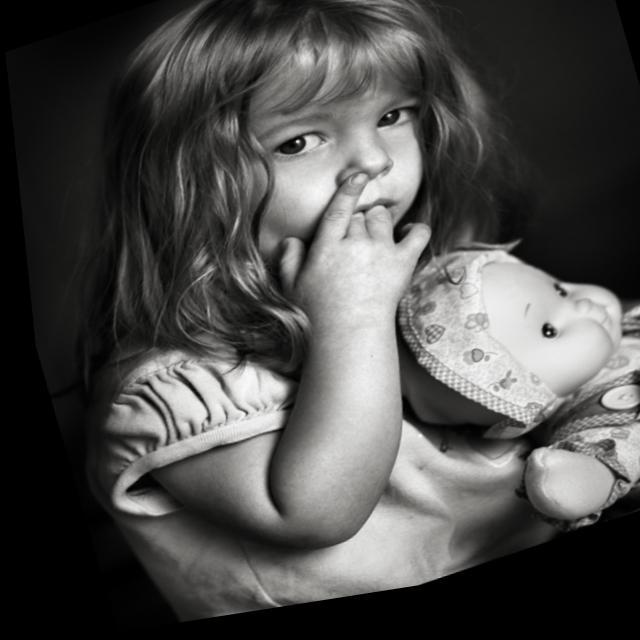Nonhelmet: (146, 0, 486, 299)
